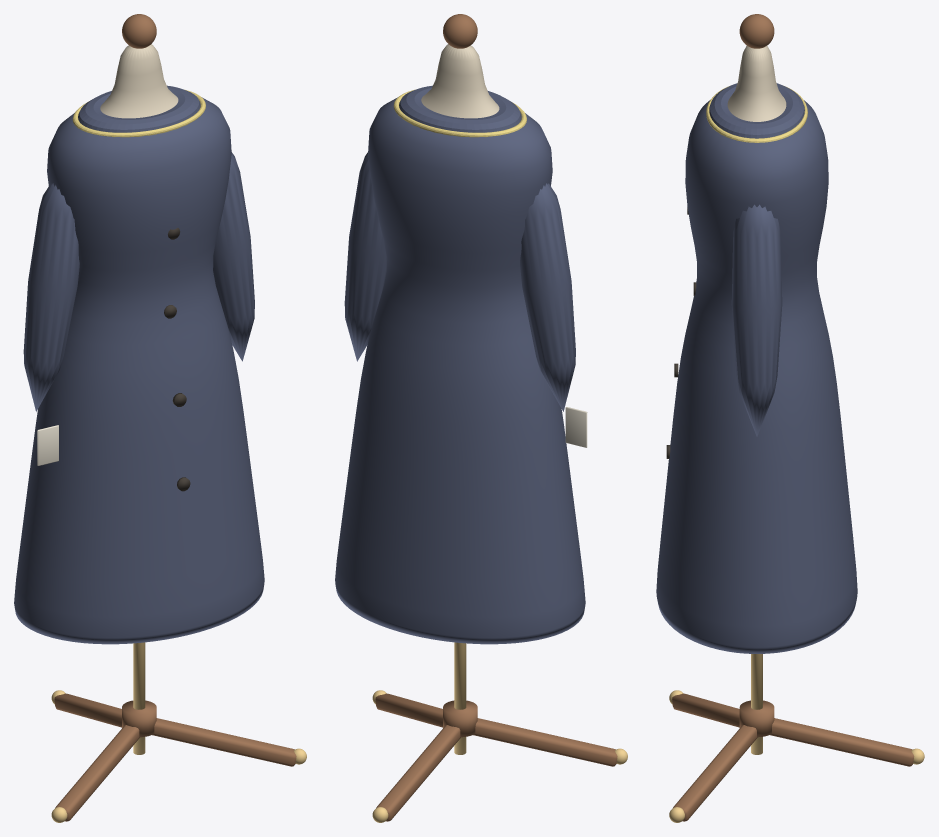
The model's file is v2_dress_form.fbx.
3 views of the same model, side by side, from view 1: azimuth 30°, elevation 25°; view 2: azimuth 150°, elevation 25°; view 3: azimuth 270°, elevation 25° (orthographic).
Visible parts, largest first — view 1: CoatShell, CoatSleeve-1, CoatSleeve1, DressForm, Leg2, CoatCollar, Leg1, Leg0, Pole, NeckKnob, Hub, DrapedTape (+1 smaller); view 2: CoatShell, CoatSleeve-1, CoatSleeve1, DressForm, Leg1, CoatCollar, Leg0, Leg2, Pole, NeckKnob, Hub, DrapedTape (+1 smaller); view 3: CoatShell, CoatSleeve1, DressForm, Leg0, CoatCollar, Leg2, Leg1, NeckKnob, Hub, Pole, DrapedTape.
Boxes of the visible parts, x1,y1,x2,y2 form: CoatShell: [14, 97, 264, 644]; CoatSleeve-1: [23, 183, 79, 411]; CoatSleeve1: [213, 152, 254, 361]; DressForm: [100, 44, 178, 118]; Leg2: [152, 718, 296, 766]; CoatCollar: [78, 85, 200, 132]; Leg1: [55, 725, 139, 821]; Leg0: [54, 693, 121, 727]; Pole: [133, 642, 145, 754]; NeckKnob: [122, 14, 156, 48]; Hub: [122, 700, 156, 737]; DrapedTape: [72, 89, 205, 137]; CoatShell: [335, 97, 585, 644]; CoatSleeve-1: [520, 183, 575, 411]; CoatSleeve1: [344, 152, 386, 361]; DressForm: [421, 44, 499, 118]; Leg1: [473, 718, 617, 766]; CoatCollar: [399, 85, 521, 132]; Leg0: [376, 725, 460, 821]; Leg2: [375, 693, 442, 727]; Pole: [454, 642, 466, 754]; NeckKnob: [443, 14, 477, 48]; Hub: [443, 700, 477, 737]; DrapedTape: [393, 89, 526, 137]; CoatShell: [656, 100, 857, 653]; CoatSleeve1: [731, 204, 782, 436]; DressForm: [727, 46, 786, 121]; Leg0: [770, 718, 914, 766]; CoatCollar: [709, 83, 804, 138]; Leg2: [673, 725, 757, 821]; Leg1: [672, 693, 739, 727]; NeckKnob: [739, 14, 774, 48]; Hub: [739, 700, 774, 737]; Pole: [751, 654, 762, 754]; DrapedTape: [706, 85, 807, 142].
Bounding box in the file's own units: 0.5863 × 1.66 × 0.5378.
